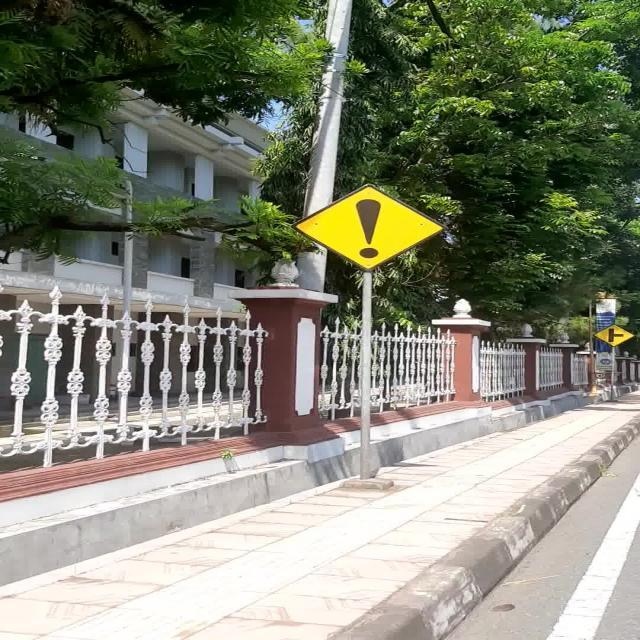Hati-Hati: (291, 184, 448, 272)
